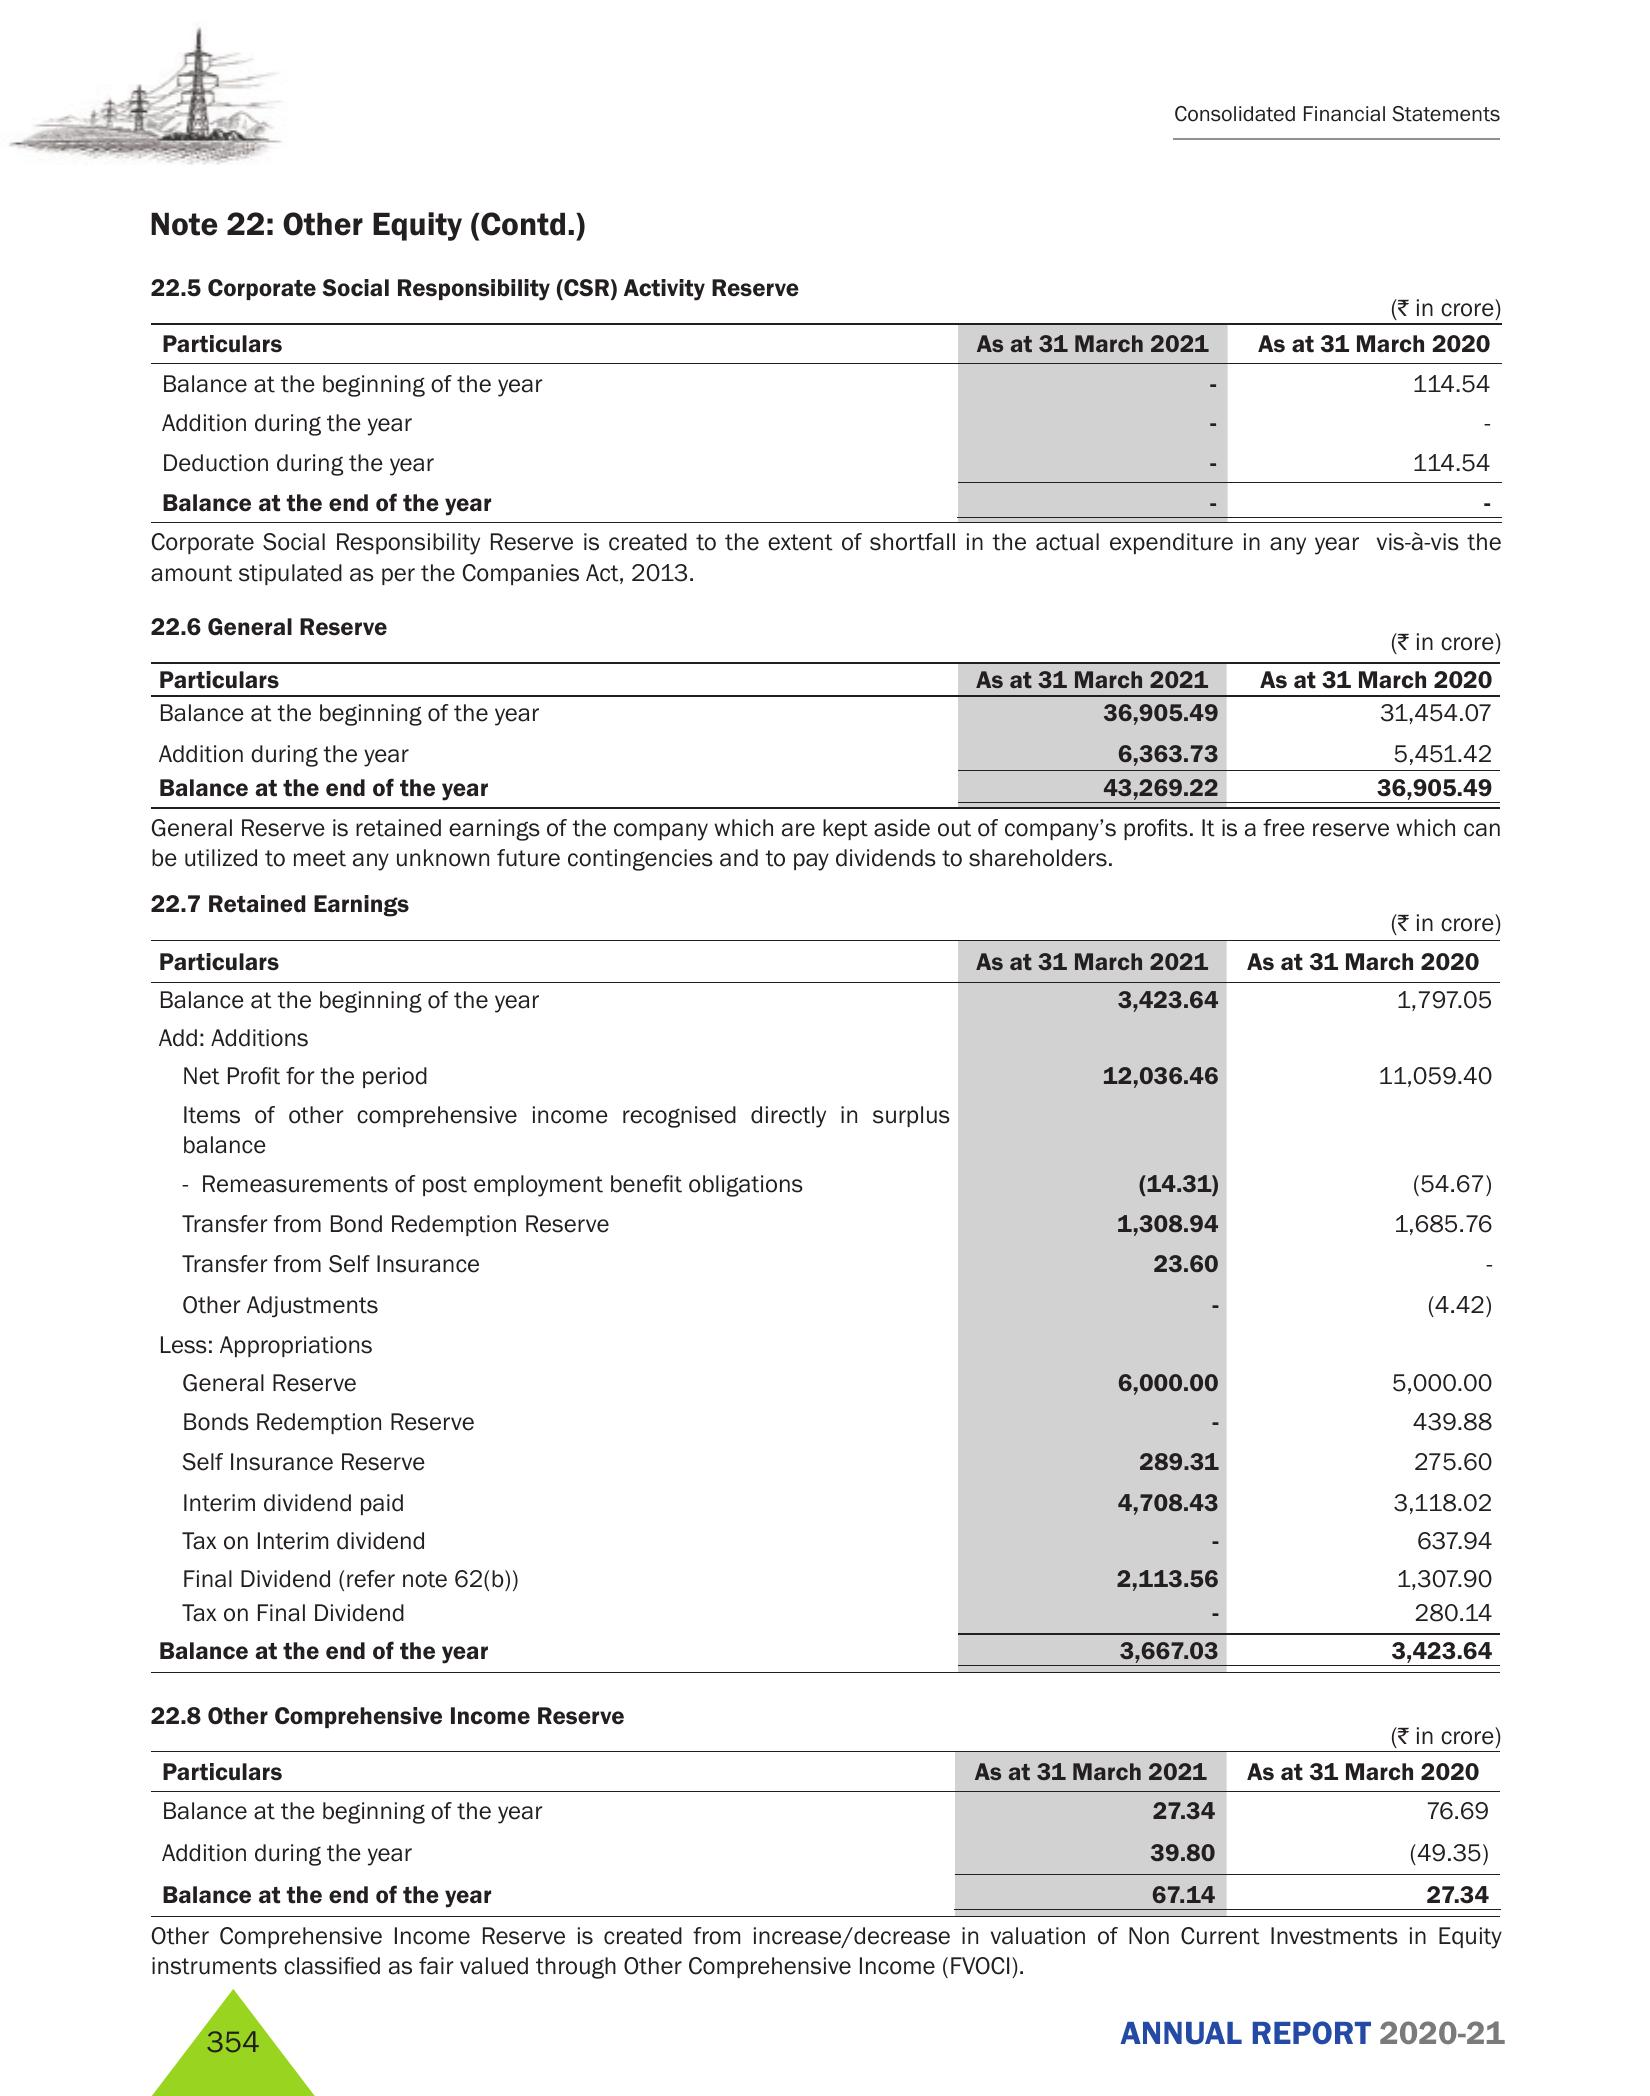Footer: (0, 1965, 1650, 2096)
Header: (0, 0, 1650, 196)
Table: (122, 944, 1536, 1679), (122, 323, 1539, 515), (99, 1749, 1551, 1916), (111, 653, 1539, 810)
